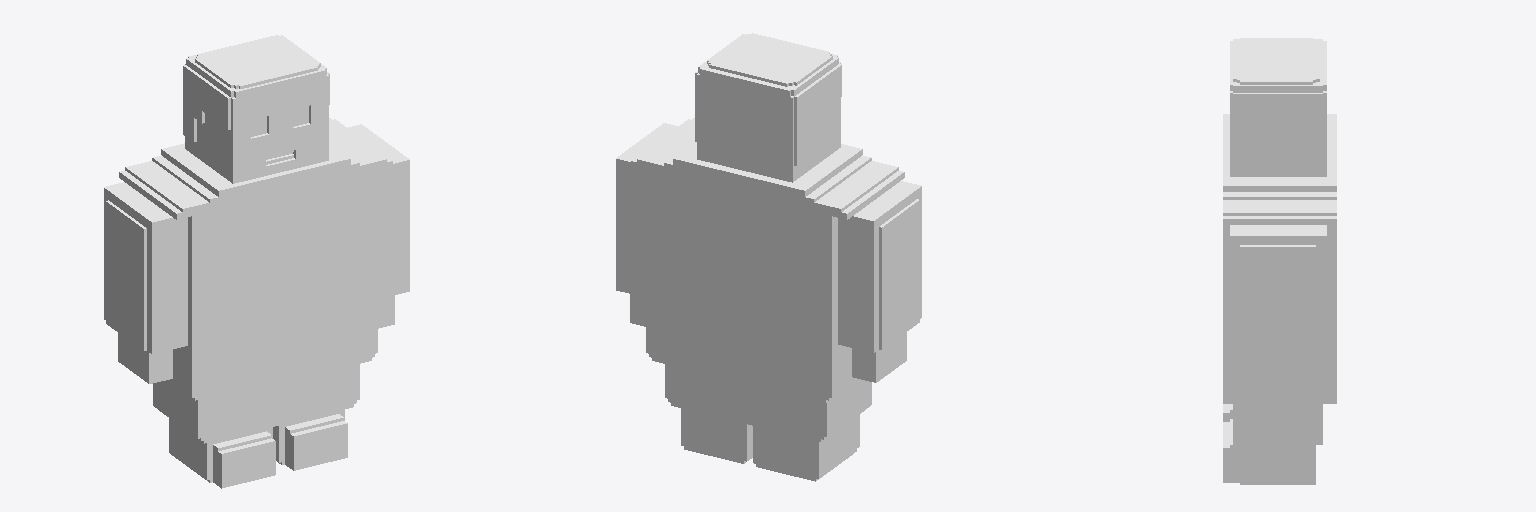
File: human_2.obj
3 views of the same model, side by side, from view 1: azimuth 30°, elevation 25°; view 2: azimuth 150°, elevation 25°; view 3: azimuth 270°, elevation 25° (orthographic).
Parts seen in each view (by area): view 1: human_2; view 2: human_2; view 3: human_2.
Part boxes in pixels (x1,y1,x2,y2): human_2: (104, 35, 409, 488); human_2: (616, 33, 921, 481); human_2: (1223, 38, 1336, 484).
Size of the model in its own units: 88 by 125 by 33.